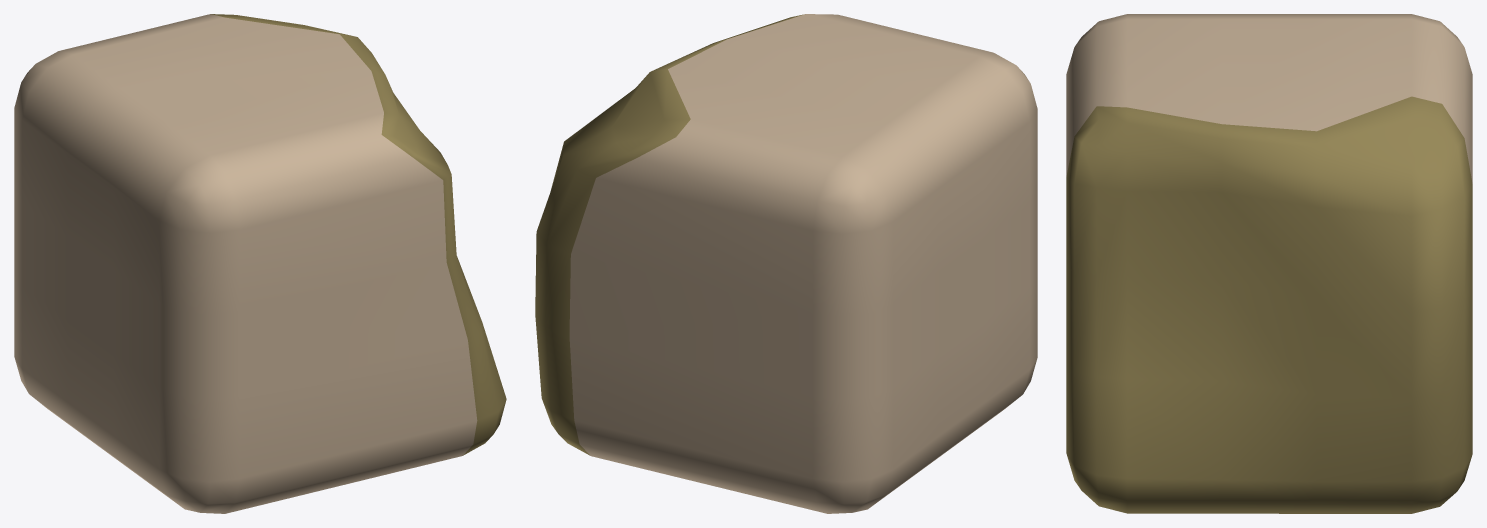
File: bottomTile_mesh.fbx
The picture shows the model from 3 angles, left to right: view 1: azimuth 30°, elevation 25°; view 2: azimuth 150°, elevation 25°; view 3: azimuth 270°, elevation 25°; orthographic projection. The views are drawn at different scales.
Visible parts, largest first — view 1: edgeBottomTile_mesh; view 2: edgeBottomTile_mesh; view 3: edgeBottomTile_mesh.
Boxes of the visible parts, <box> form: edgeBottomTile_mesh: <box>14,14,506,513</box>; edgeBottomTile_mesh: <box>535,14,1037,513</box>; edgeBottomTile_mesh: <box>1066,14,1472,513</box>.
Size of the model in its own units: 1.04 by 1 by 1.
